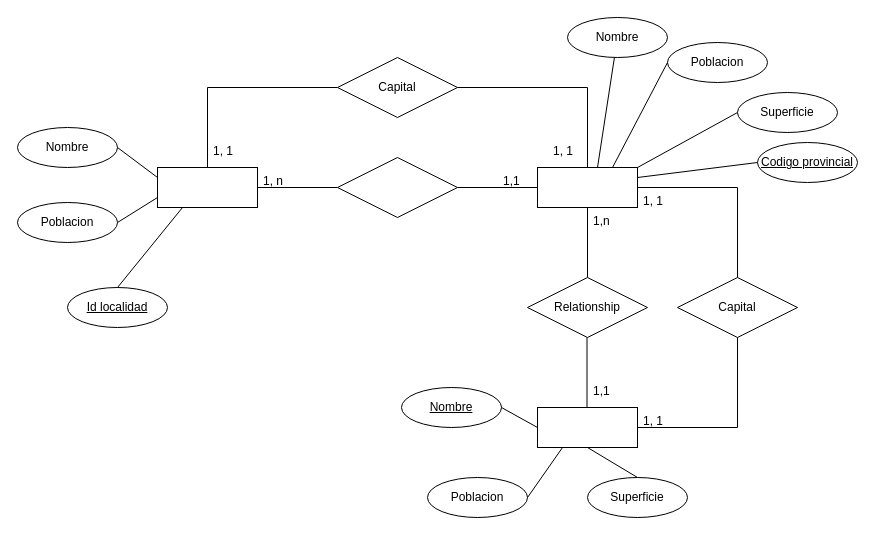
The diagram is 875 pixels wide and 535 high, and some of its shapes have lost their labels. Each missing label, with the centre of its shape:
"Comunidad Autonoma" goes at [587,427].
"Localidad" goes at [207,187].
"Pertenece" goes at [397,187].
"Provincia" goes at [587,187].
